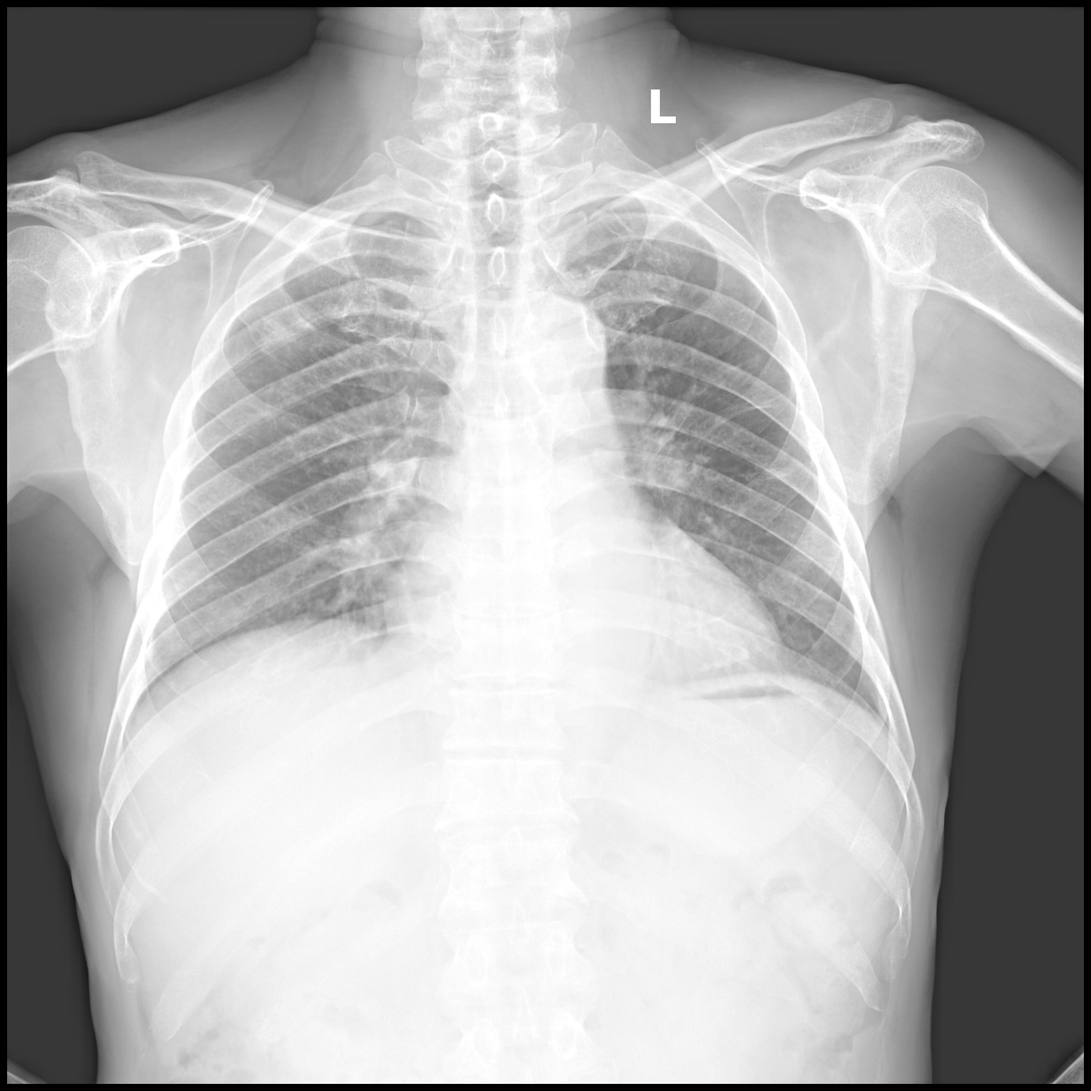Pulmonary fibrosis: (244, 304, 320, 350), (603, 208, 644, 250)
